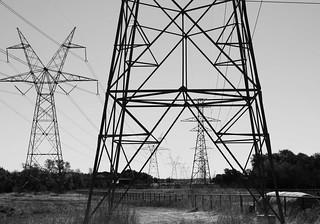power_tower: (0, 25, 101, 175)
